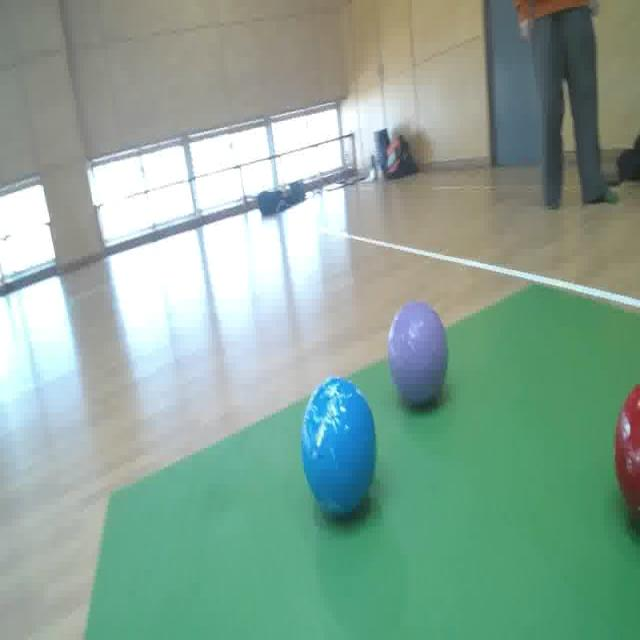blue_ball: (294, 370, 386, 529)
purple_ball: (389, 300, 449, 416)
red_ball: (613, 376, 640, 539)
